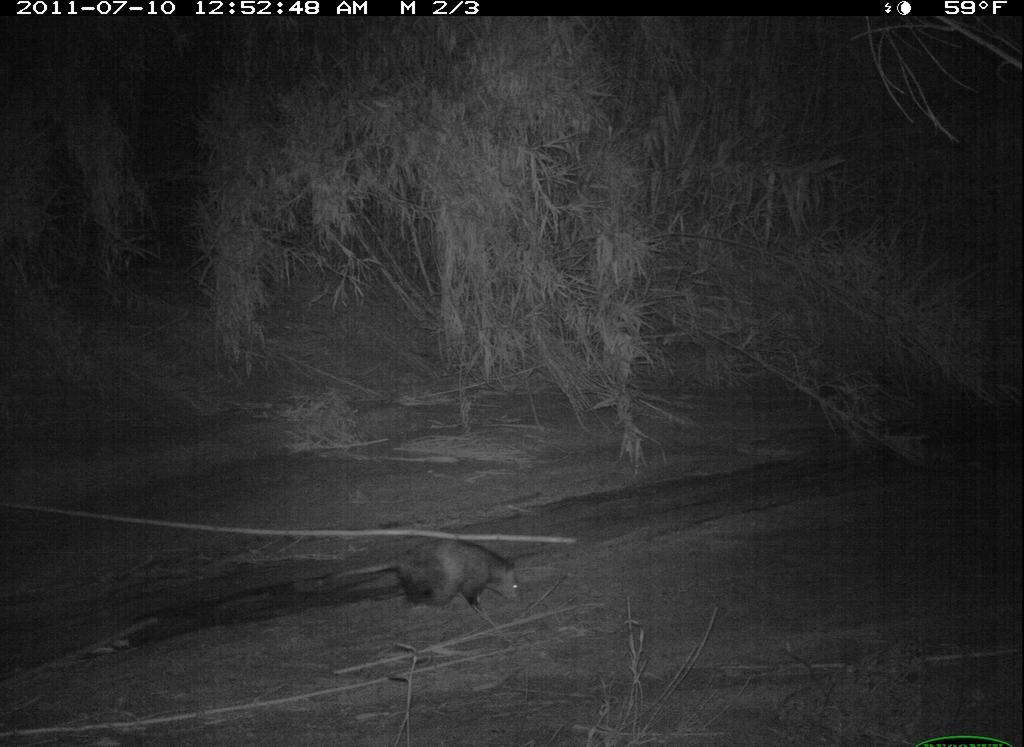opossum: (314, 534, 527, 630)
